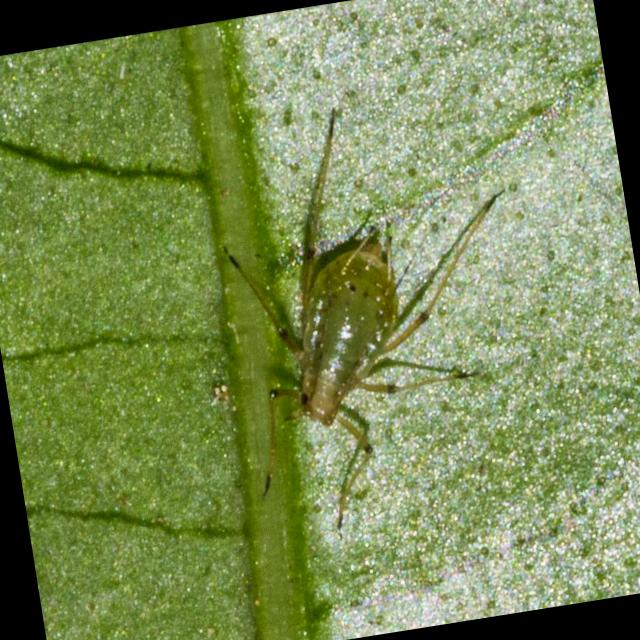Aphids: (204, 123, 506, 505)
